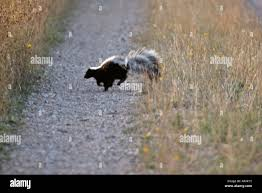skunk: (84, 47, 163, 92)
